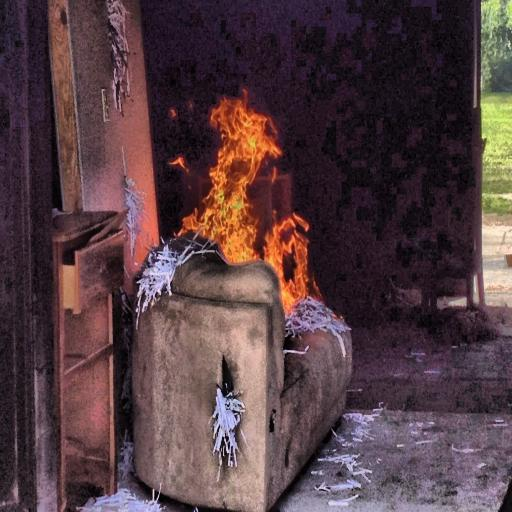fire: (175, 89, 318, 314)
